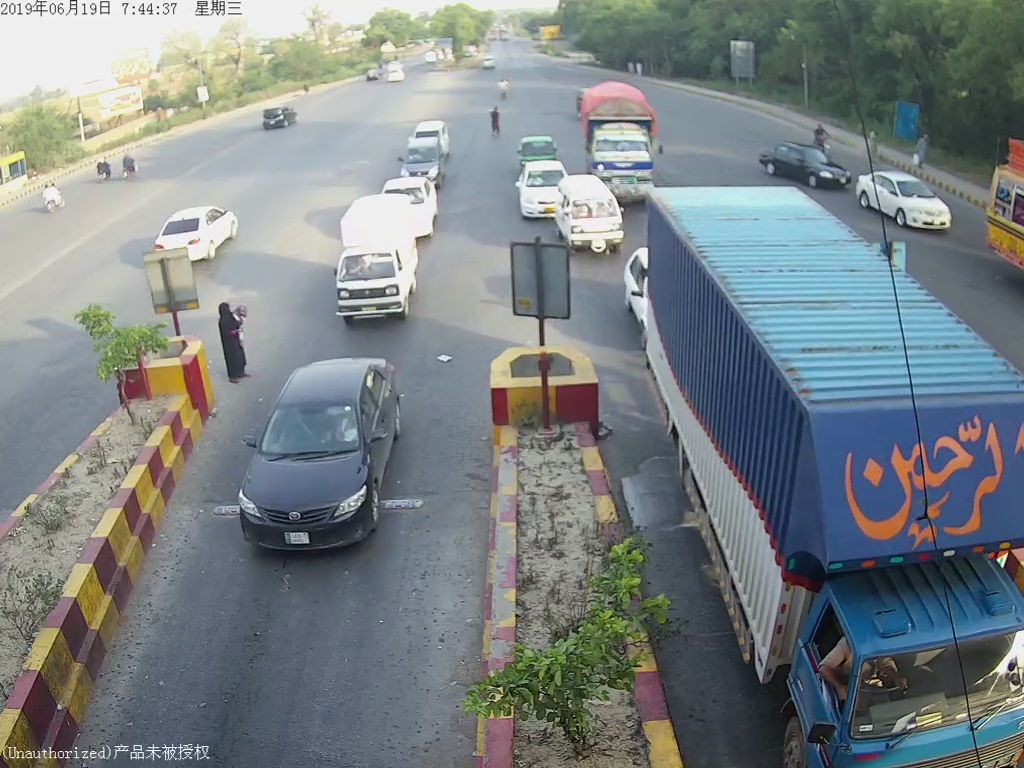Cat-1: (246, 359, 406, 549), (328, 208, 423, 324), (565, 186, 623, 249)
Cat-2: (644, 175, 1022, 768)
